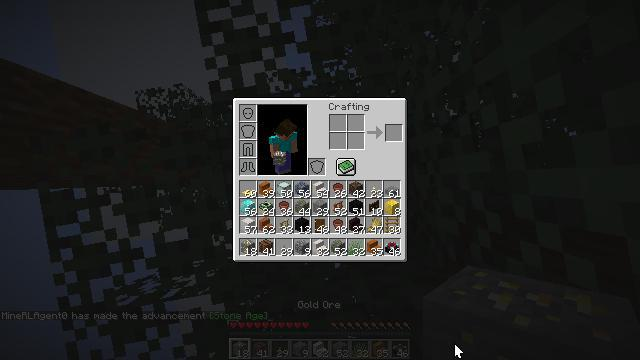cursor: (454, 343, 464, 359)
